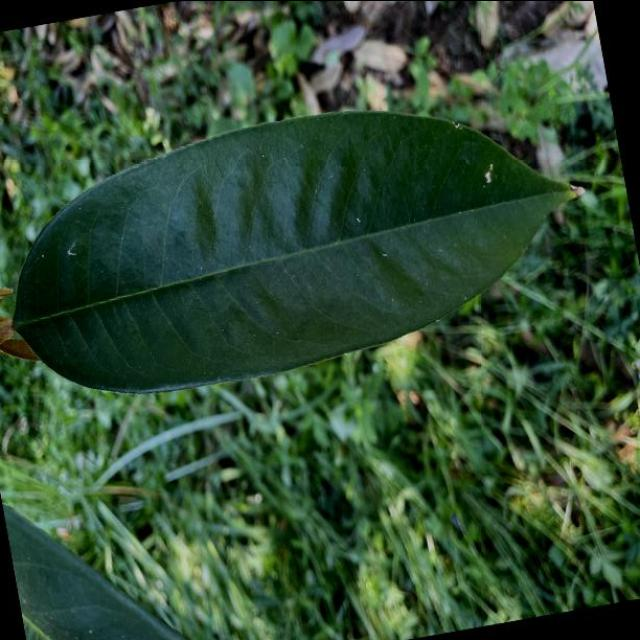No Disease: (0, 54, 616, 428)
